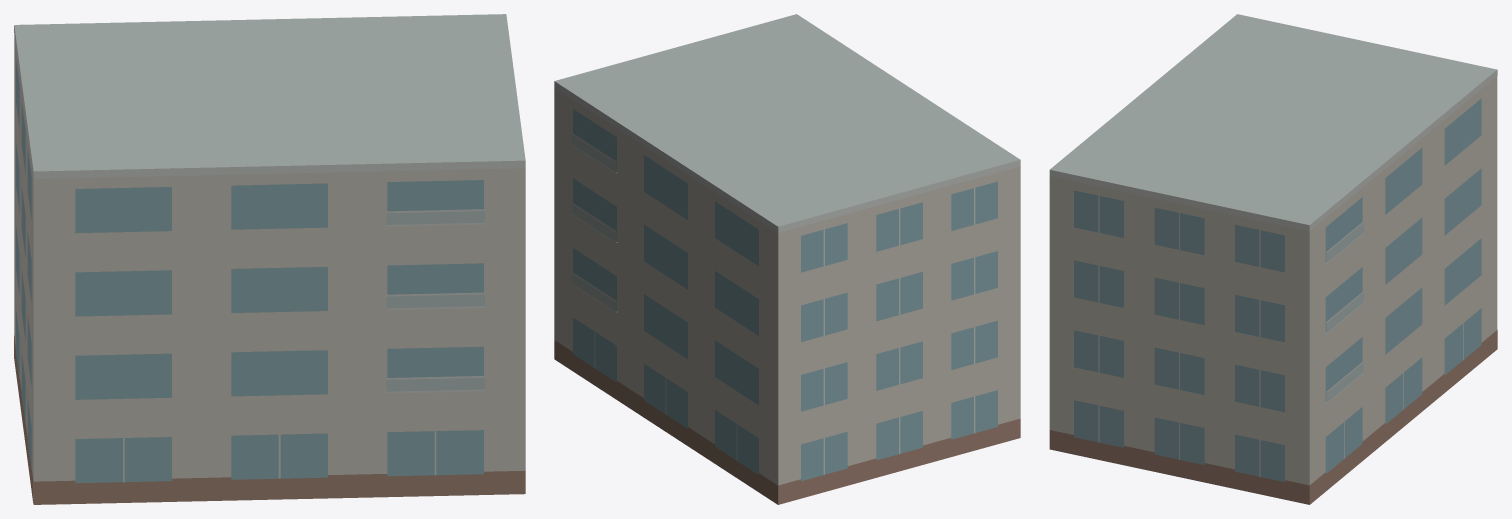
File: survey-upis-32955624.glb
3 renders of one model, left to right at view 1: azimuth 30°, elevation 25°; view 2: azimuth 150°, elevation 25°; view 3: azimuth 270°, elevation 25°, orthographic. The views are drawn at different scales.
Parts seen in each view (by area): view 1: survey-upis-32955624.tmp; view 2: survey-upis-32955624.tmp; view 3: survey-upis-32955624.tmp.
Part boxes in pixels (<box>): survey-upis-32955624.tmp: <box>14,14,525,504</box>; survey-upis-32955624.tmp: <box>554,14,1020,504</box>; survey-upis-32955624.tmp: <box>1049,14,1497,504</box>.
Size of the model in its own units: 17.18 by 10.6 by 15.39.
